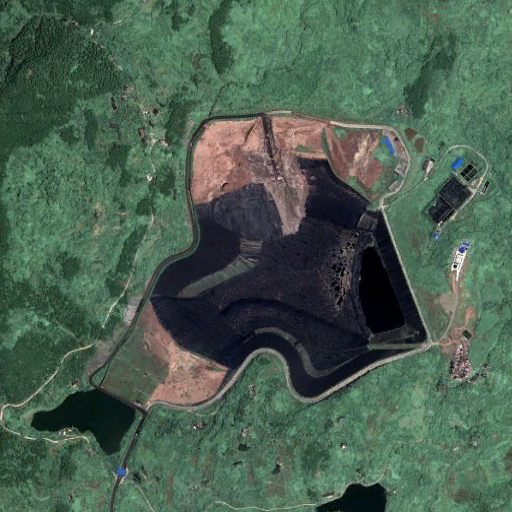lf: (148, 149, 428, 401)
